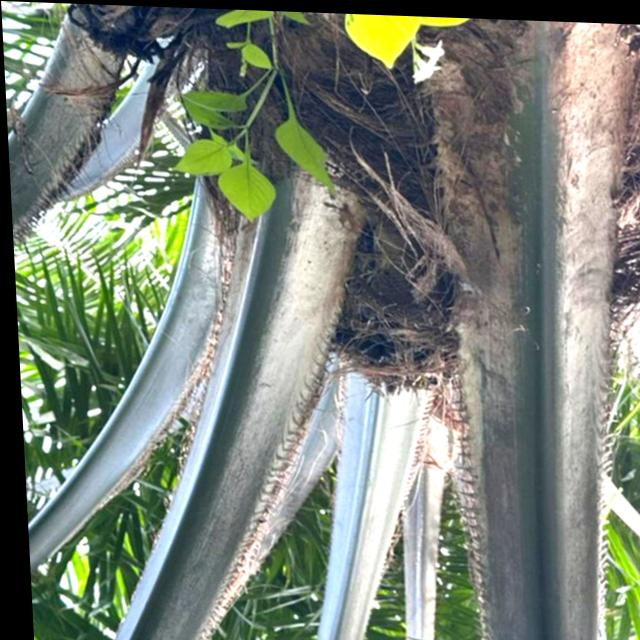unripe: (279, 178, 483, 400)
